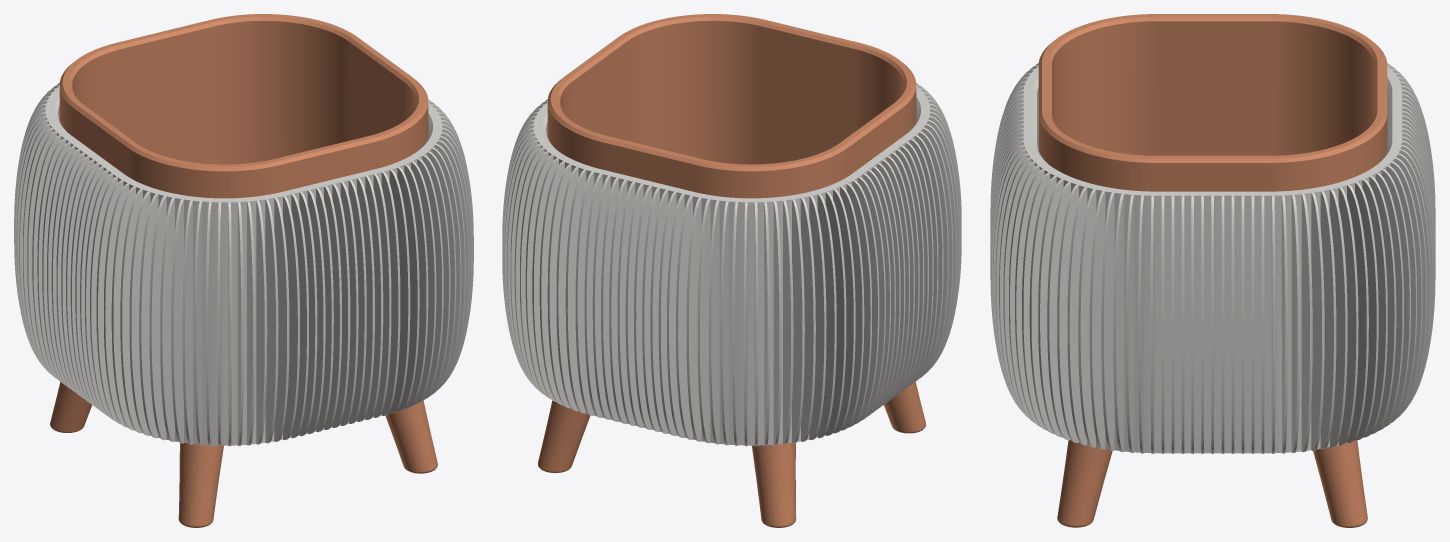
Rendered from stria_quadrum_p.glb.
3 views of the same model, side by side, from view 1: azimuth 30°, elevation 25°; view 2: azimuth 150°, elevation 25°; view 3: azimuth 270°, elevation 25° (orthographic). The views are drawn at different scales.
Visible parts, largest first — view 1: parte_1, parte_2; view 2: parte_1, parte_2; view 3: parte_1, parte_2.
Boxes of the visible parts, x1=… form: parte_1: x1=14, y1=83, x2=473, y2=446; parte_2: x1=50, y1=14, x2=437, y2=527; parte_1: x1=502, y1=83, x2=961, y2=446; parte_2: x1=538, y1=14, x2=925, y2=527; parte_1: x1=990, y1=63, x2=1435, y2=453; parte_2: x1=1038, y1=14, x2=1387, y2=527.
Size of the model in its own units: 0.134 by 0.1253 by 0.134.
